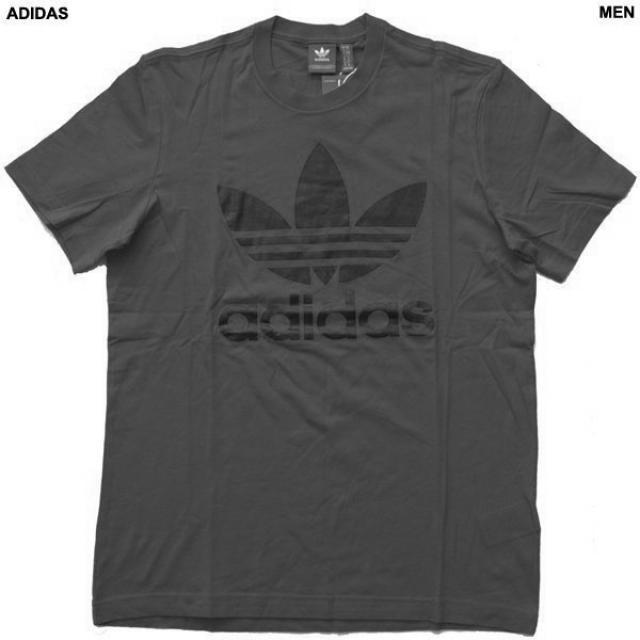Adidas: (201, 131, 446, 290), (308, 41, 339, 68)
